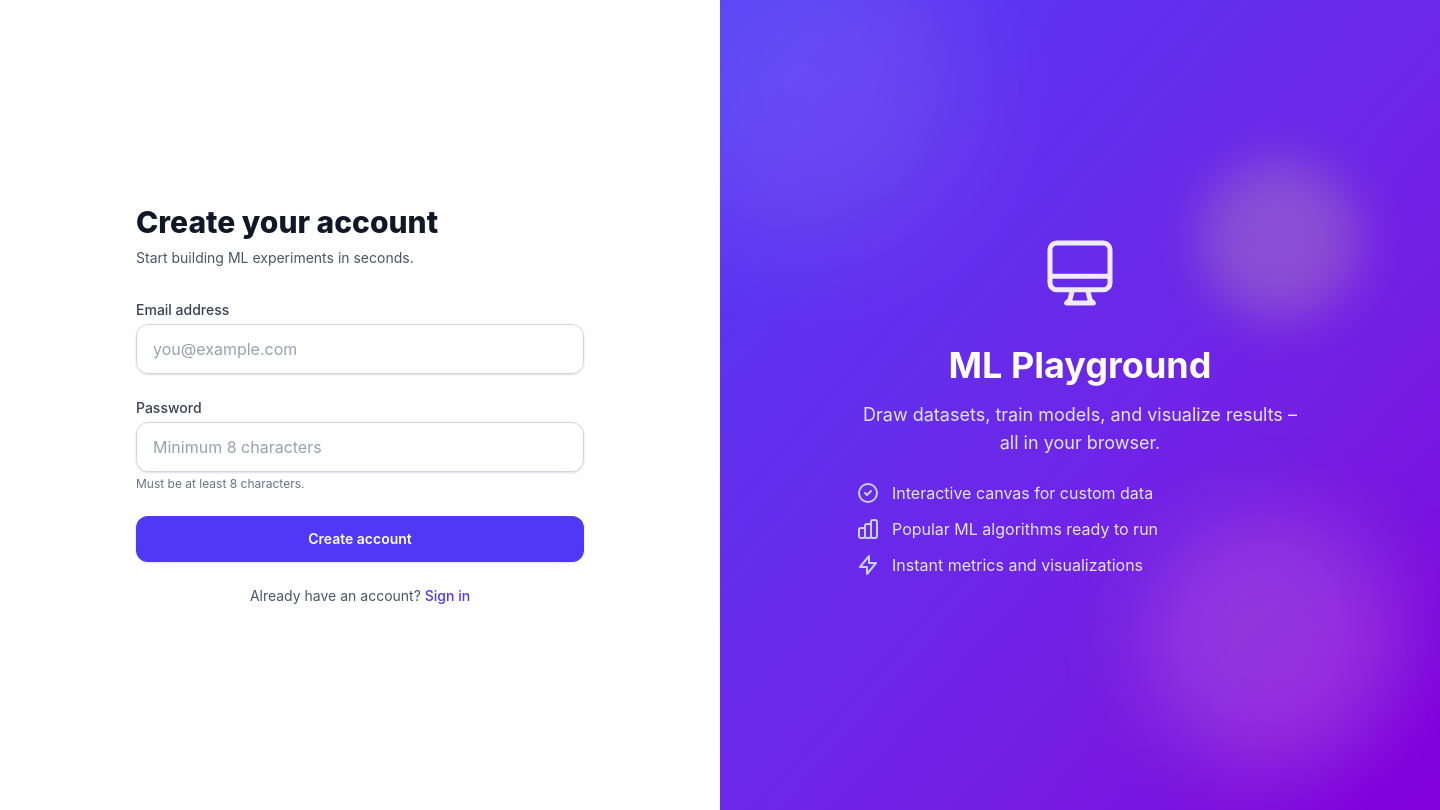
Test: SignupPage › Form Submission › shows success message after successful signup
Type "test@example.com" into the field labelled "Email address". click: (360, 349)
box: left=136, top=324, right=584, bottom=374
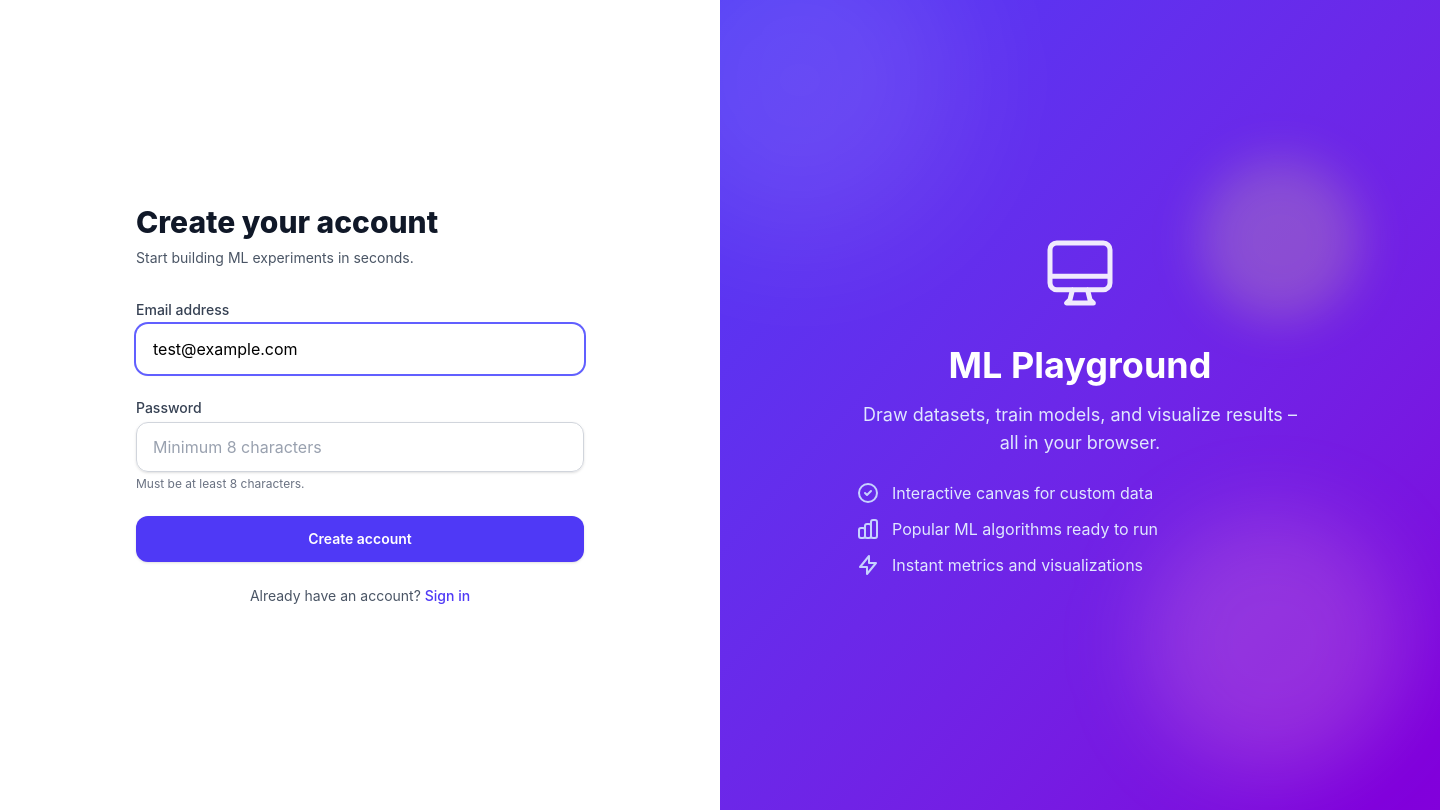
Type "password123" into the password field labelled "Password". click: (360, 447)
box: left=136, top=422, right=584, bottom=472
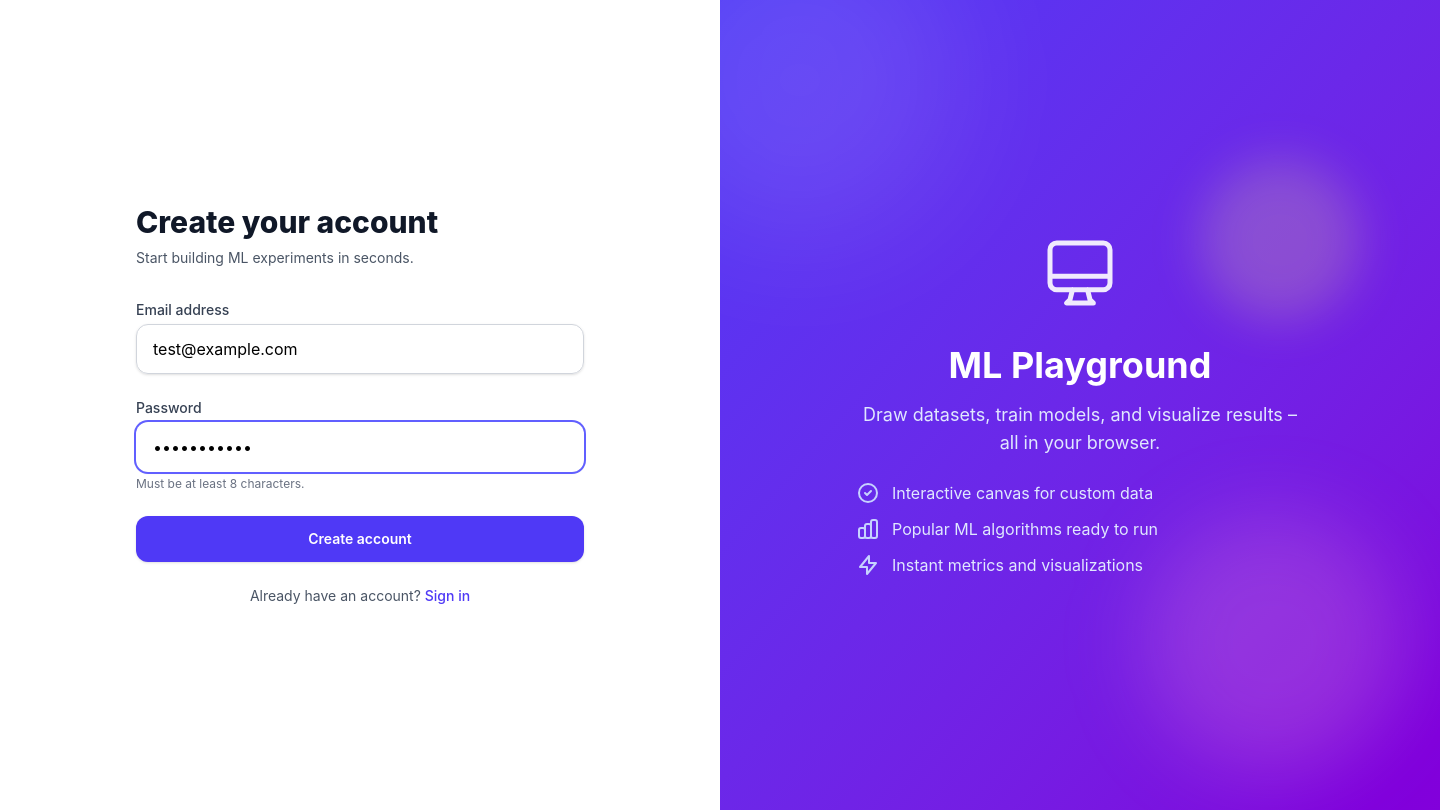
Click the button "Create account". click: (360, 539)
box: left=136, top=516, right=584, bottom=562
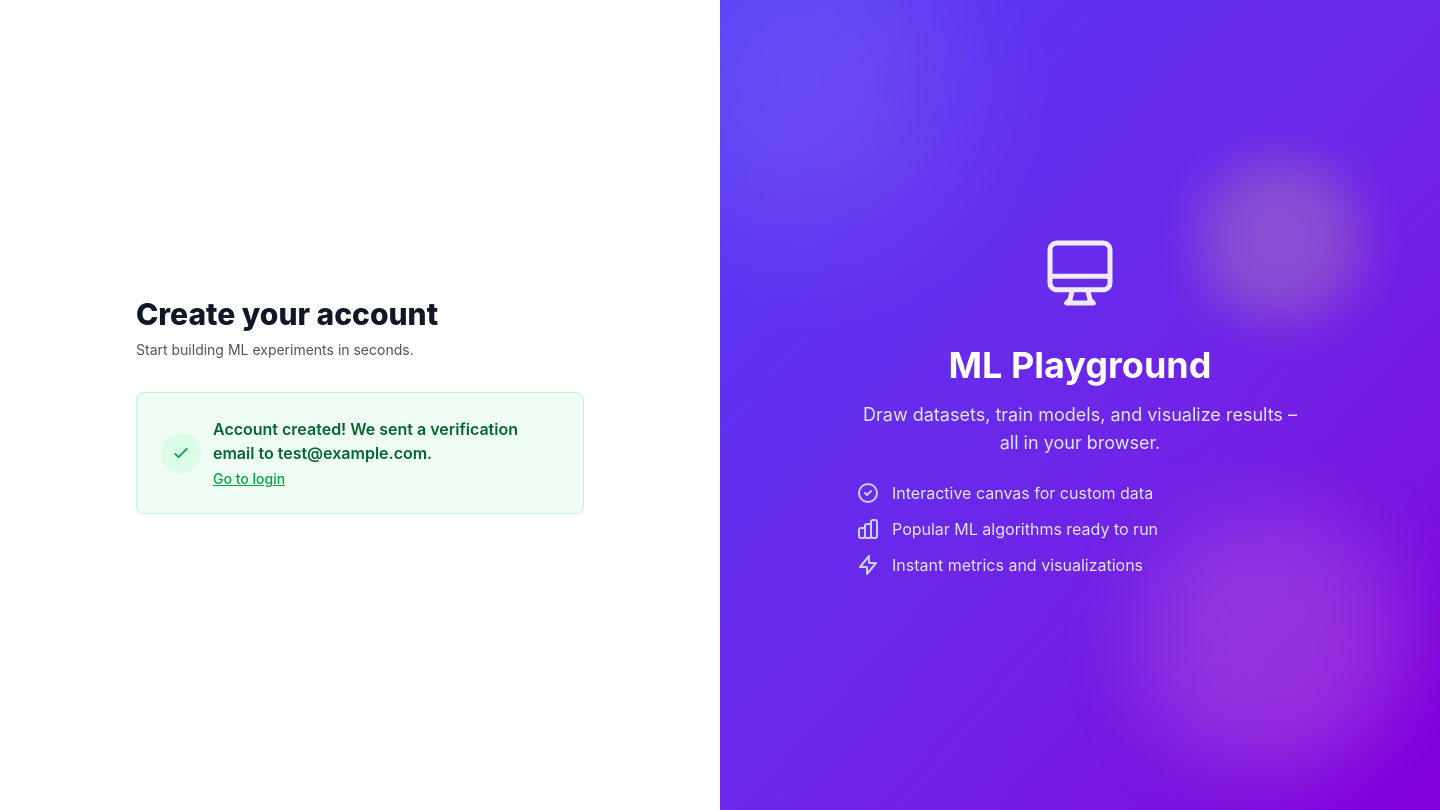
Expected: the text "Account created!" is shown, left=213, top=419, right=518, bottom=463
